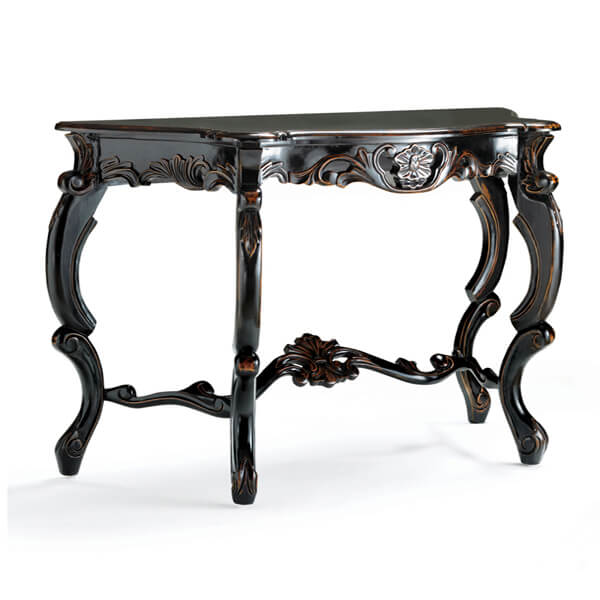Carving Table: (54, 110, 561, 499)
